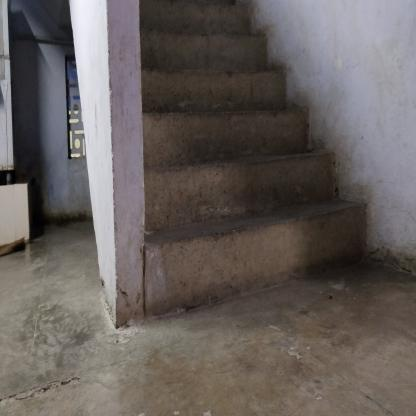stairs: (154, 49, 287, 326)
